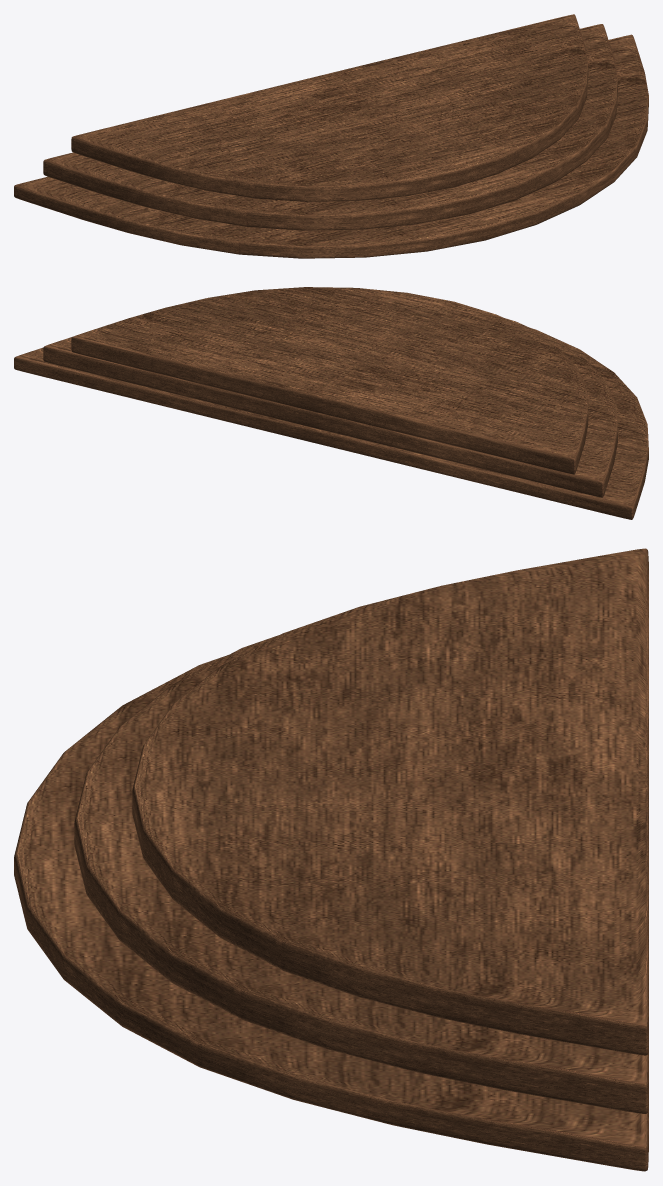
The model's file is throneStairs.glb.
3 renders of one model, top to bottom at view 1: azimuth 30°, elevation 25°; view 2: azimuth 150°, elevation 25°; view 3: azimuth 270°, elevation 25°, orthographic. The views are drawn at different scales.
Parts seen in each view (by area): view 1: group9; view 2: group9; view 3: group9.
Part boxes in pixels (x1=…): group9: x1=14, y1=14, x2=648, y2=258; group9: x1=14, y1=287, x2=648, y2=519; group9: x1=14, y1=548, x2=648, y2=1171.
Bounding box in the file's own units: 22.28 × 1.65 × 10.16.
Materials: 1 (1 with a texture image).
